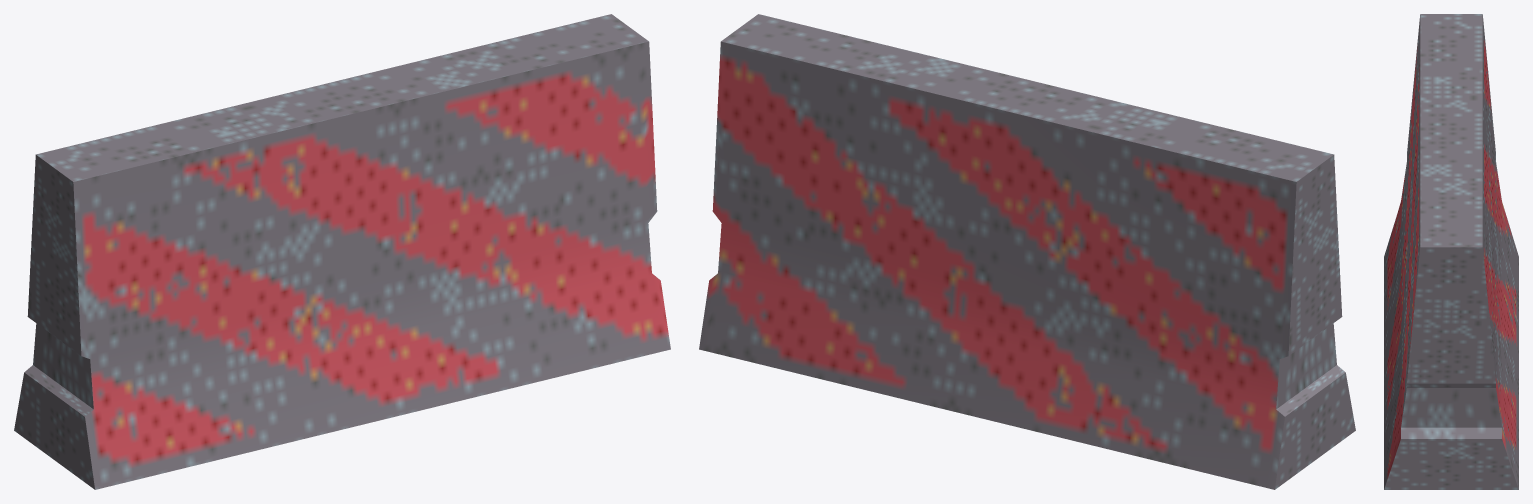
The model's file is roadblock.fbx.
3 renders of one model, left to right at view 1: azimuth 30°, elevation 25°; view 2: azimuth 150°, elevation 25°; view 3: azimuth 270°, elevation 25°, orthographic. The views are drawn at different scales.
Visible parts, largest first — view 1: Roadblock_BW_01; view 2: Roadblock_BW_01; view 3: Roadblock_BW_01.
Boxes of the visible parts, x1,y1,x2,y2 form: Roadblock_BW_01: (14,14,670,489); Roadblock_BW_01: (699,14,1355,489); Roadblock_BW_01: (1384,14,1518,489).
Bounding box in the file's own units: 2.61 × 1.27 × 0.6372.
